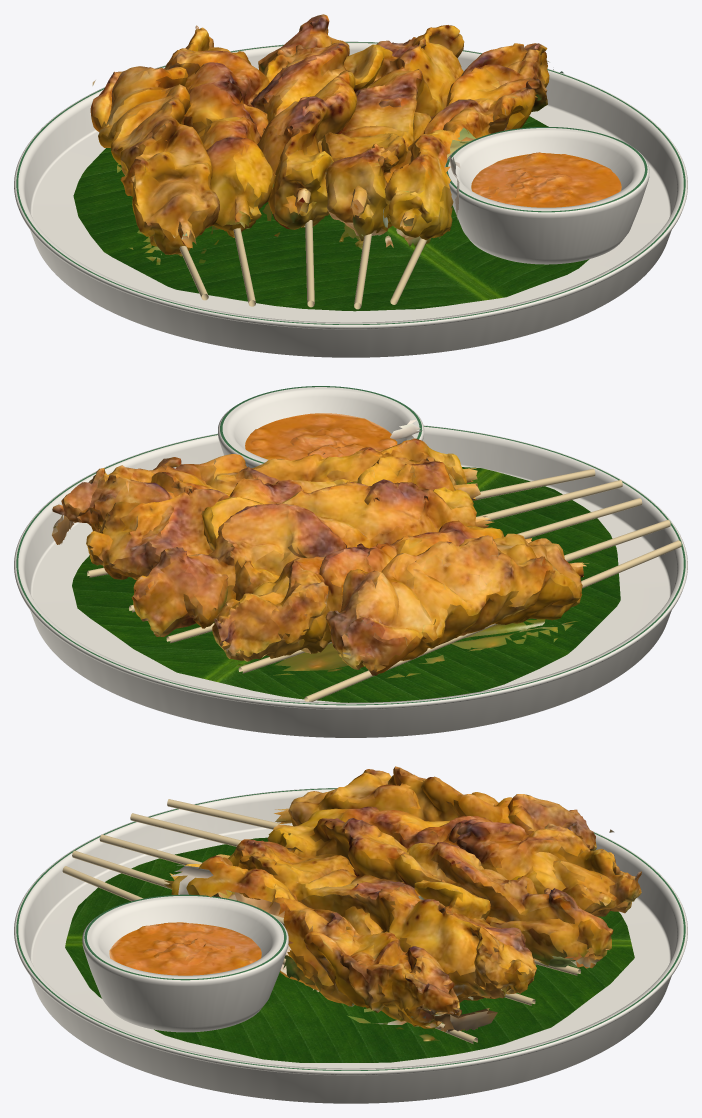
File: satay-0.glb
3 renders of one model, top to bottom at view 1: azimuth 30°, elevation 25°; view 2: azimuth 150°, elevation 25°; view 3: azimuth 270°, elevation 25°, orthographic.
Parts seen in each view (by area): view 1: food/independent-stage-0, support/regular-closed-plate, canonical/continuous-leaf-repair, support/regular-satay-cup, edible/local-sauce-level-0, canonical/skewer-core-3, canonical/skewer-core-2, canonical/skewer-core-4, canonical/skewer-core-5; view 2: food/independent-stage-0, support/regular-closed-plate, canonical/continuous-leaf-repair, support/regular-satay-cup, edible/local-sauce-level-0, canonical/skewer-core-1, canonical/skewer-core-3, canonical/skewer-core-2, canonical/skewer-core-4, canonical/skewer-core-5; view 3: food/independent-stage-0, support/regular-closed-plate, canonical/continuous-leaf-repair, support/regular-satay-cup, edible/local-sauce-level-0, canonical/skewer-core-4, canonical/skewer-core-3, canonical/skewer-core-5, canonical/skewer-core-1, canonical/skewer-core-2.
Part boxes in pixels (x1,y1,x2,y2): food/independent-stage-0: (90,14,563,264); support/regular-closed-plate: (14,41,687,357); canonical/continuous-leaf-repair: (73,116,589,311); support/regular-satay-cup: (444,127,649,264); edible/local-sauce-level-0: (471,152,621,207); canonical/skewer-core-3: (304,201,314,307); canonical/skewer-core-2: (233,228,255,306); canonical/skewer-core-4: (354,233,372,309); canonical/skewer-core-5: (390,237,427,304); food/independent-stage-0: (52,420,588,678); support/regular-closed-plate: (14,425,687,737); canonical/continuous-leaf-repair: (72,467,620,702); support/regular-satay-cup: (218,386,424,468); edible/local-sauce-level-0: (245,413,397,460); canonical/skewer-core-1: (304,540,681,701); canonical/skewer-core-3: (166,498,642,643); canonical/skewer-core-2: (238,520,670,673); canonical/skewer-core-4: (129,480,622,612); canonical/skewer-core-5: (87,469,595,577); food/independent-stage-0: (164,766,641,1041); support/regular-closed-plate: (14,788,687,1103); canonical/continuous-leaf-repair: (65,837,634,1062); support/regular-satay-cup: (82,894,288,1032); edible/local-sauce-level-0: (109,922,261,975); canonical/skewer-core-4: (72,850,535,1005); canonical/skewer-core-3: (99,834,580,975); canonical/skewer-core-5: (62,866,477,1043); canonical/skewer-core-1: (167,799,286,829); canonical/skewer-core-2: (130,813,241,846).
Size of the model in its own units: 2.88 by 0.6367 by 2.88.
6 materials, 3 textured.
